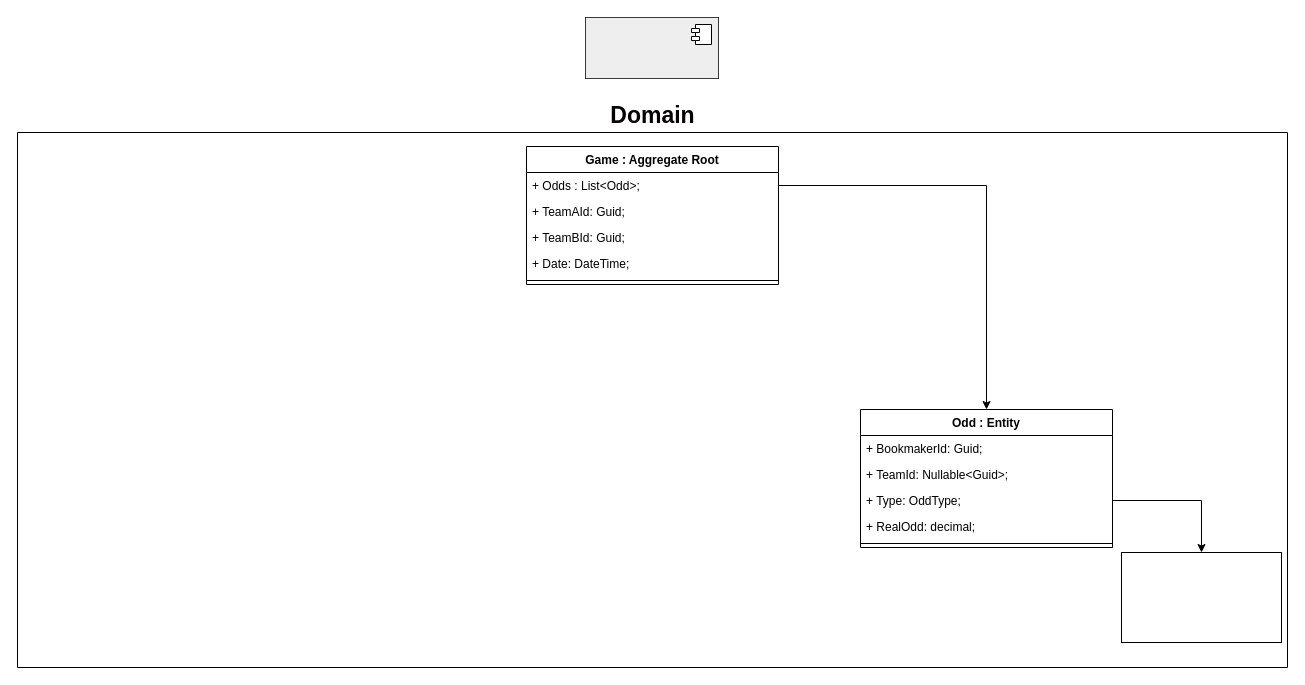
Some shapes in this 1305 by 685 pixel diagram are drawn without their labels. The shapes that lost their labels are listed below. From the top down, each one's centre as x and y in pixels, then its label:
the point at 651,47: Game Collector
the point at 1201,597: OddType : Enum V1 = 1 X = 2 V2 = 3
